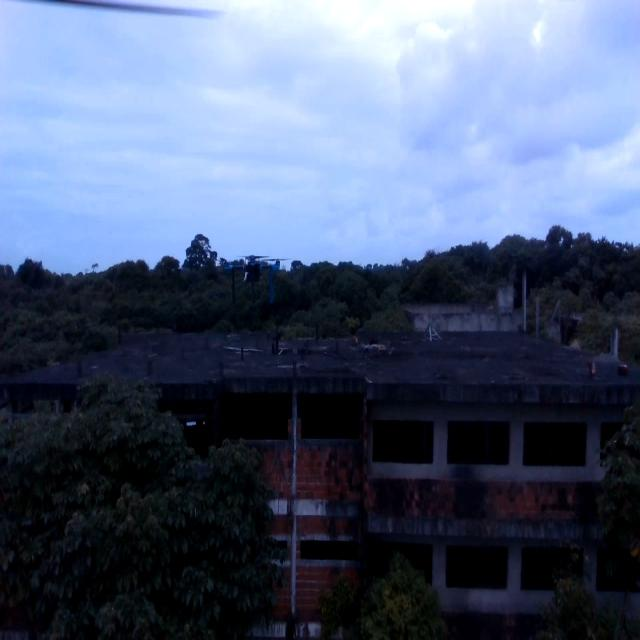-uav-: (213, 232, 294, 316)
